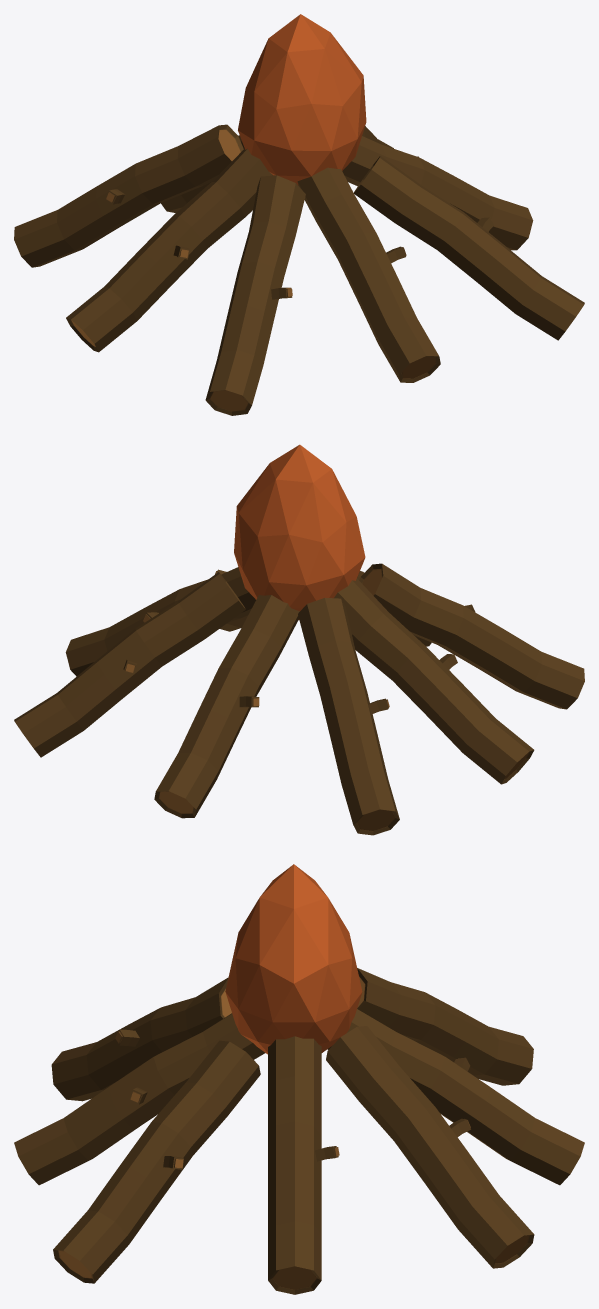
File: campfire.fbx
The picture shows the model from 3 angles, top to bottom: view 1: azimuth 30°, elevation 25°; view 2: azimuth 150°, elevation 25°; view 3: azimuth 270°, elevation 25°; orthographic projection. The views are drawn at different scales.
Parts seen in each view (by area): view 1: campfire; view 2: campfire; view 3: campfire.
Boxes of the visible parts, left/top/right/bottom form: campfire: left=14, top=14, right=584, bottom=415; campfire: left=14, top=444, right=584, bottom=835; campfire: left=14, top=864, right=584, bottom=1294.
Bounding box in the file's own units: 7769 × 4805 × 7547.
